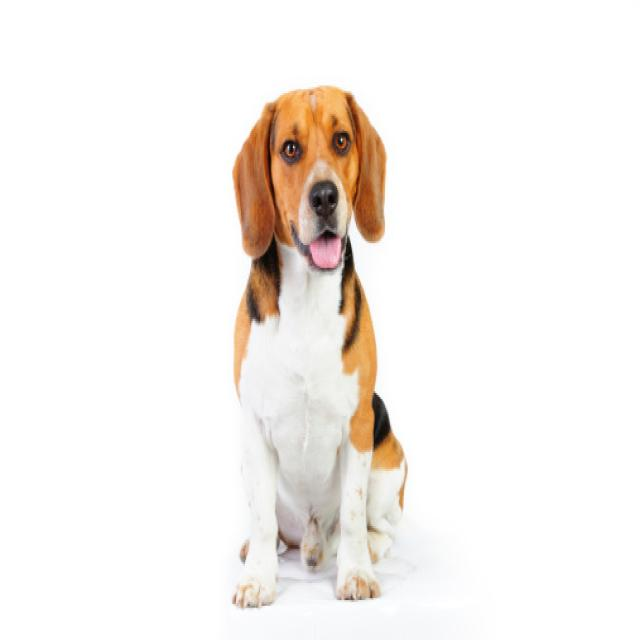beagle: (223, 54, 396, 312)
